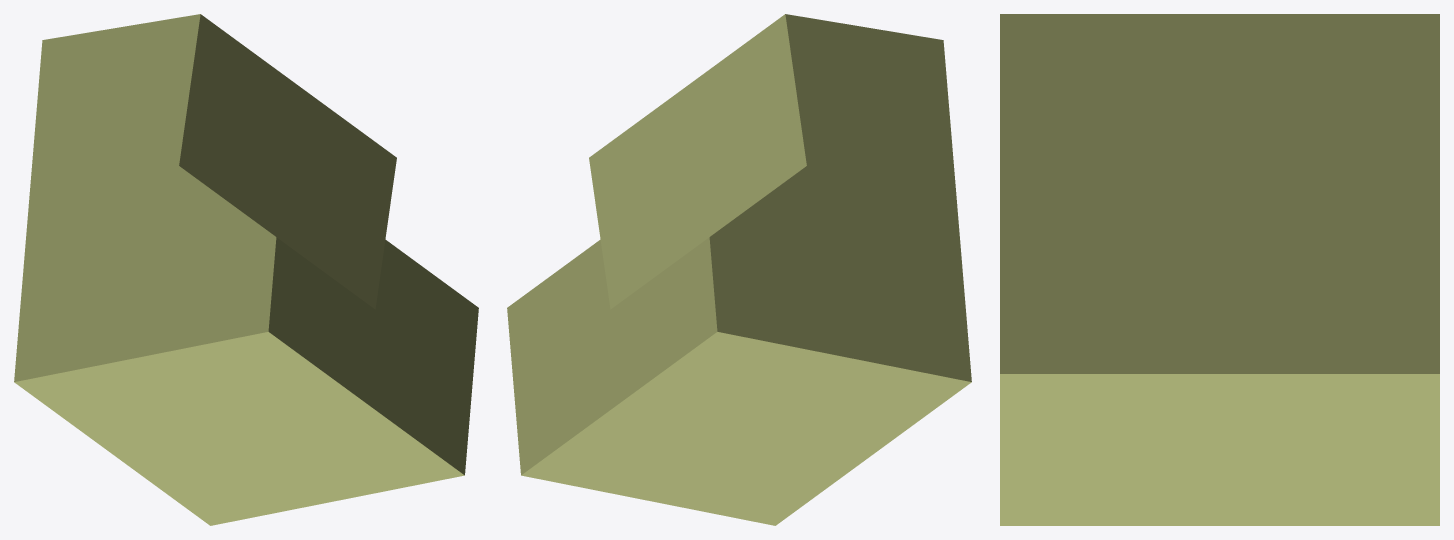
3 renders of one model, left to right at view 1: azimuth 30°, elevation 25°; view 2: azimuth 150°, elevation 25°; view 3: azimuth 270°, elevation 25°, orthographic. The views are drawn at different scales.
Parts seen in each view (by area): view 1: 0_1_0_0_1_0_2_2_3_2_2; view 2: 0_1_0_0_1_0_2_2_3_2_2; view 3: 0_1_0_0_1_0_2_2_3_2_2.
Part boxes in pixels (x1,y1,x2,y2): 0_1_0_0_1_0_2_2_3_2_2: [14, 14, 478, 525]; 0_1_0_0_1_0_2_2_3_2_2: [507, 14, 971, 525]; 0_1_0_0_1_0_2_2_3_2_2: [1000, 14, 1439, 525].
Size of the model in its own units: 7.1 by 8.77 by 9.
